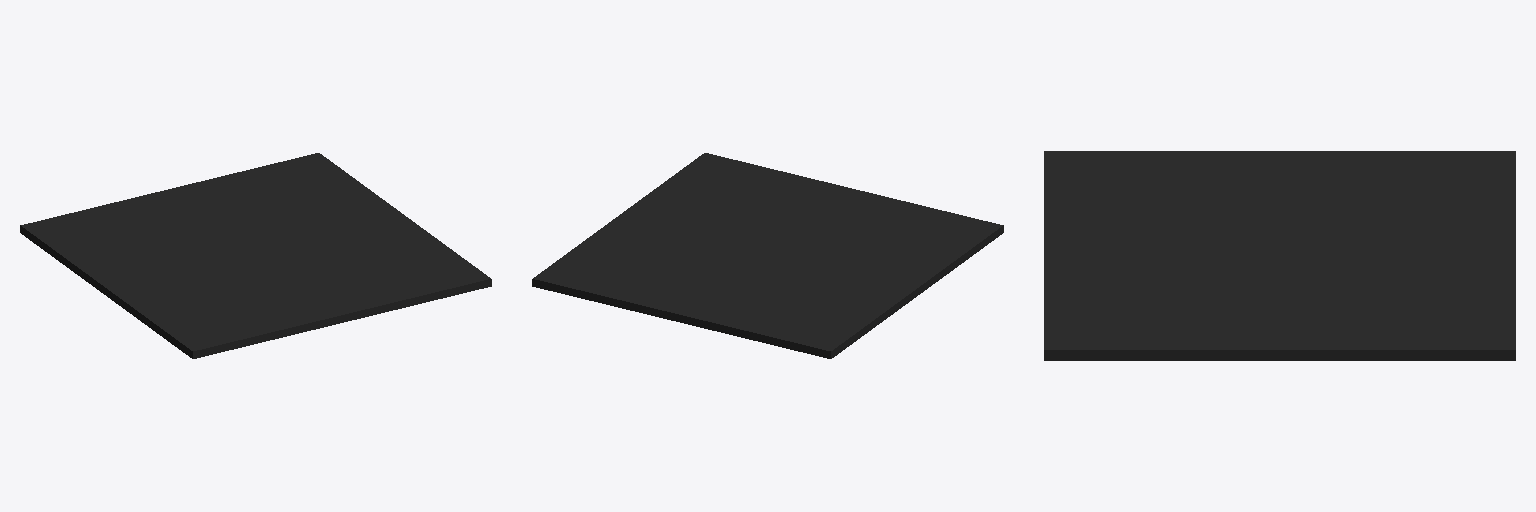
URDF robot description (ground):
<?xml version="1.0"?>

<robot name="ground">
  
  <material name="li">
    <color rgba="0.2 0.2 0.2 1.0"/>
  </material>

  <link name="base"/>

  <link name="lid">
    <collision>
       <origin xyz="0 0 .0" rpy="0 0 0"/>
      <geometry>
        <box size="4.0 0.1 4.0"/>
      </geometry>
    </collision>
    <visual>
      <origin xyz="0 0 .0" rpy="0 0 0"/>
      <geometry>
        <box size="4.0 0.1 4.0"/>
      </geometry>
      <material name="li"/>
    </visual>
  </link>

  <joint name="jlid" type="fixed">
    <origin rpy="1.5707 0 0" xyz="0 0 0"/>
    <parent link="base"/>
    <child link="lid"/>
  </joint>
</robot>

--- Facts derived from the render (not from the file) ---
Views: 3 orthographic renders of the robot side by side, from view 1: azimuth 30°, elevation 25°; view 2: azimuth 150°, elevation 25°; view 3: azimuth 270°, elevation 25°.
Robot: ground — 2 links, 1 joints (1 fixed); root link base; default pose: all joints at 0.
Links seen in each view (by area): view 1: lid; view 2: lid; view 3: lid.
Boxes of the visible links, x1=… form: lid: x1=20, y1=153, x2=491, y2=358; lid: x1=532, y1=153, x2=1003, y2=358; lid: x1=1044, y1=151, x2=1515, y2=360.
Size in the robot's own frame: 4 by 4 by 0.1004 metres.
Geometry: primitives only (box / cylinder / sphere), no mesh files.
